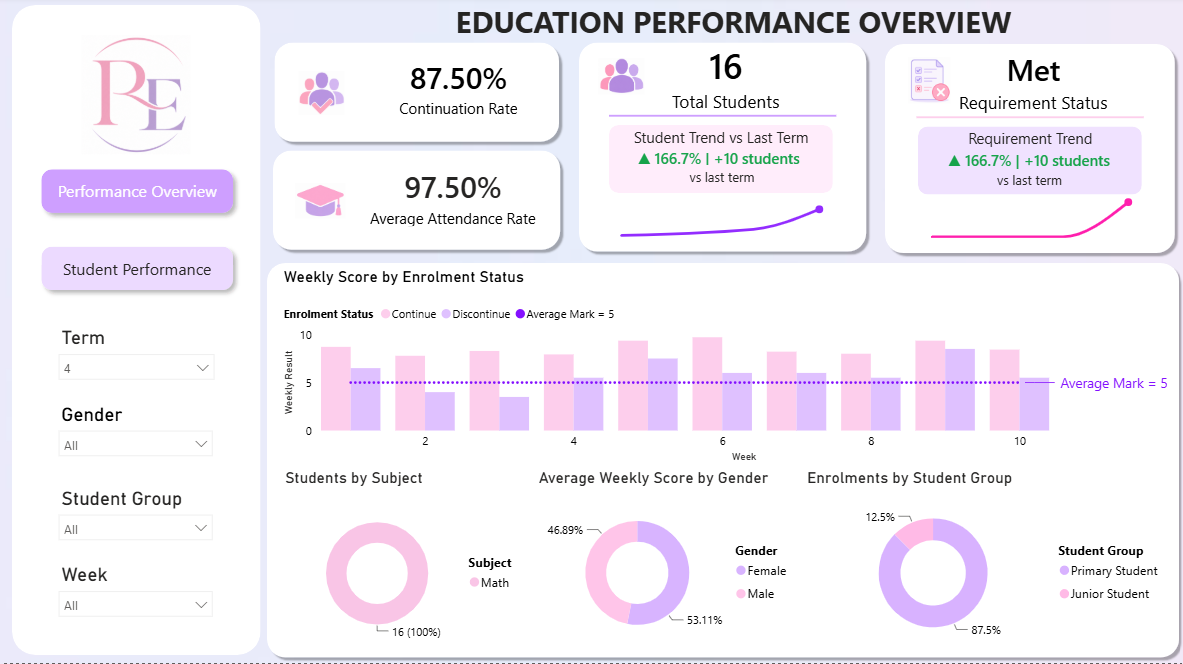

Layout of this report page (visuals, bound fields, positions):
{"tool":"powerbi","page":{"name":"Performance Overview","canvas":[1280,720],"ordinal":0},"visuals":[{"type":"textbox","box":[68.9,43.3,101.7,33.3],"z":0},{"type":"shape","box":[658,138.3,241.7,73.3],"z":0,"group":"g6"},{"type":"shape","box":[991,140,241.7,73.3],"z":0,"group":"g7"},{"type":"shape","box":[288,161.1,322.9,120],"z":0,"group":"g4"},{"type":"shape","box":[13.3,10,268.3,701.7],"z":1000},{"type":"shape","box":[289.4,44,320,120],"z":1000,"group":"g4"},{"type":"shape","box":[618.3,43.4,322.9,238.6],"z":2000,"group":"g3"},{"type":"group","id":"g1","title":"Group 1","box":[654.7,135,248.9,63.9],"z":2000,"group":"g6"},{"type":"group","id":"g2","title":"Group 1","box":[987.7,136.7,248.9,38.9],"z":2000,"group":"g7"},{"type":"pageNavigator","box":[35.6,178.1,225,148.3],"z":2000},{"type":"shape","box":[948.3,45,325.7,238.6],"z":3000,"group":"g9"},{"type":"shape","box":[282.5,281.2,997.5,438.8],"z":4000},{"type":"textbox","box":[302.2,0,977.8,60],"z":5000},{"type":"image","box":[34,42.1,225.7,128.6],"z":6000},{"type":"cardVisual","fields":{"Data":["Enrolment.Continuation Rate"]},"box":[329.4,48.3,252.9,115.7],"z":7000,"group":"g4"},{"type":"lineClusteredColumnComboChart","title":"Weekly Score by Enrolment Status","fields":{"Category":["Result.week_number"],"Series":["Enrolment.enrolment_status"],"Y":["Avg(Result.weekly_result)"],"Y2":["Result.Average Mark"]},"box":[301.2,293.8,963.8,215],"z":7000},{"type":"donutChart","title":"Students by Subject","fields":{"Y":["Enrolment.Total Students"],"Category":["Enrolment.subject"]},"box":[302,510,274,196],"z":8000},{"type":"cardVisual","fields":{"Data":["Result.Requirement Status"]},"box":[996.6,30,236.7,123.3],"z":9000,"group":"g9"},{"type":"cardVisual","fields":{"Data":["Enrolment.Total Students"]},"box":[698.1,31.7,171,114],"z":9000,"group":"g3"},{"type":"shape","box":[656.4,119.5,245.6,18.9],"z":10000,"group":"g3"},{"type":"donutChart","fields":{"Y":["Result.Average Weekly Score"],"Category":["Enrolment.gender"]},"box":[576,510,288.3,195],"z":10000},{"type":"group","id":"g3","title":"Group 5","box":[618.3,31.7,322.9,250.2],"z":11000},{"type":"lineChart","fields":{"Category":["Enrolment.term"],"Y":["Enrolment.Total Students"]},"box":[655.6,206.4,243.3,63.3],"z":11000,"group":"g3"},{"type":"group","id":"g4","title":"Group 7","box":[288,44,322,236],"z":12000},{"type":"group","id":"g5","title":"Group 3","box":[310.6,81.2,292.9,189.1],"z":12000,"group":"g4"},{"type":"image","box":[314,81.2,65.7,47.1],"z":12000,"group":"g5"},{"type":"group","id":"g6","title":"Group 2","box":[654.7,135,248.3,76.7],"z":13000,"group":"g3"},{"type":"donutChart","title":"Enrolments by Student Group","fields":{"Y":["Enrolment.Total Enrolments"],"Category":["Enrolment.Student Group"]},"box":[866,510,398.3,195],"z":13000},{"type":"cardVisual","fields":{"Data":["Enrolment.Average Attendance Rate"]},"box":[310.6,168.9,292.9,101.4],"z":13500,"group":"g5"},{"type":"image","box":[319,196.6,54.3,50],"z":14000,"group":"g4"},{"type":"slicer","fields":{"Values":["Enrolment.gender"]},"box":[54,434,186.2,64.8],"z":14000},{"type":"group","id":"g7","title":"Group 2","box":[987.7,136.7,248.9,76.7],"z":15000,"group":"g8"},{"type":"cardVisual","fields":{"Data":["Enrolment.Student Trend vs Last Term"]},"box":[656.4,146.7,240,52.2],"z":15000,"group":"g1"},{"type":"textbox","box":[728.1,178.4,101.7,33.3],"z":15000,"group":"g3"},{"type":"slicer","fields":{"Values":["Enrolment.Student Group"]},"box":[54,524,186,70],"z":15000},{"type":"slicer","fields":{"Values":["Result.week_number"]},"box":[53.4,607.2,186.2,74.5],"z":16000},{"type":"image","box":[645.7,61.4,50,50],"z":17000,"group":"g3"},{"type":"shape","box":[988.9,121.1,245.6,18.9],"z":17000,"group":"g9"},{"type":"textbox","box":[654.7,135,248.9,38.9],"z":17000,"group":"g1"},{"type":"textbox","box":[987.7,136.7,248.9,38.9],"z":17000,"group":"g2"},{"type":"textbox","box":[1061,181.7,101.7,33.3],"z":17000,"group":"g8"},{"type":"cardVisual","fields":{"Data":["Enrolment.Requirement Status Trend"]},"box":[994.4,145,233.3,61.7],"z":18000,"group":"g8"},{"type":"slicer","fields":{"Values":["Enrolment.term"]},"box":[54,352,188,72],"z":18000},{"type":"lineChart","fields":{"Category":["Enrolment.term"],"Y":["Enrolment.Met Students"]},"box":[991.1,201.7,241.7,63.3],"z":19000,"group":"g9"},{"type":"image","box":[976.9,65,50,50],"z":20000,"group":"g9"},{"type":"group","id":"g8","title":"Group 6","box":[987.7,136.7,247.8,77.8],"z":21000,"group":"g9"},{"type":"group","id":"g9","title":"Group 4","box":[948.3,30,325.7,253.6],"z":21001}]}

Visuals, with their boxes in screenshot pixels (x1, y1, x2, y2), scaled from the page's 1280x720 canvas onto the 1183x664 screenshot:
textbox: [left=64, top=40, right=158, bottom=71]
shape: [left=608, top=128, right=832, bottom=195]
shape: [left=916, top=129, right=1139, bottom=197]
shape: [left=266, top=149, right=565, bottom=259]
shape: [left=12, top=9, right=260, bottom=656]
shape: [left=267, top=41, right=563, bottom=151]
shape: [left=571, top=40, right=870, bottom=260]
"Group 1" group: [left=605, top=125, right=835, bottom=183]
"Group 1" group: [left=913, top=126, right=1143, bottom=162]
pageNavigator: [left=33, top=164, right=241, bottom=301]
shape: [left=876, top=42, right=1177, bottom=262]
shape: [left=261, top=259, right=1182, bottom=663]
textbox: [left=279, top=0, right=1182, bottom=55]
image: [left=31, top=39, right=240, bottom=157]
cardVisual - Enrolment.Continuation Rate: [left=304, top=45, right=538, bottom=151]
"Weekly Score by Enrolment Status" lineClusteredColumnComboChart: [left=278, top=271, right=1169, bottom=469]
"Students by Subject" donutChart: [left=279, top=470, right=532, bottom=651]
cardVisual - Result.Requirement Status: [left=921, top=28, right=1140, bottom=141]
cardVisual - Enrolment.Total Students: [left=645, top=29, right=803, bottom=134]
shape: [left=607, top=110, right=834, bottom=128]
donutChart - Result.Average Weekly Score x Enrolment.gender: [left=532, top=470, right=799, bottom=650]
"Group 5" group: [left=571, top=29, right=870, bottom=260]
lineChart - Enrolment.term x Enrolment.Total Students: [left=606, top=190, right=831, bottom=249]
"Group 7" group: [left=266, top=41, right=564, bottom=258]
"Group 3" group: [left=287, top=75, right=558, bottom=249]
image: [left=290, top=75, right=351, bottom=118]
"Group 2" group: [left=605, top=125, right=835, bottom=195]
"Enrolments by Student Group" donutChart: [left=800, top=470, right=1168, bottom=650]
cardVisual - Enrolment.Average Attendance Rate: [left=287, top=156, right=558, bottom=249]
image: [left=295, top=181, right=345, bottom=227]
slicer - Enrolment.gender: [left=50, top=400, right=222, bottom=460]
"Group 2" group: [left=913, top=126, right=1143, bottom=197]
cardVisual - Enrolment.Student Trend vs Last Term: [left=607, top=135, right=828, bottom=183]
textbox: [left=673, top=165, right=767, bottom=195]
slicer - Enrolment.Student Group: [left=50, top=483, right=222, bottom=548]
slicer - Result.week_number: [left=49, top=560, right=221, bottom=629]
image: [left=597, top=57, right=643, bottom=103]
shape: [left=914, top=112, right=1141, bottom=129]
textbox: [left=605, top=125, right=835, bottom=160]
textbox: [left=913, top=126, right=1143, bottom=162]
textbox: [left=981, top=168, right=1075, bottom=198]
cardVisual - Enrolment.Requirement Status Trend: [left=919, top=134, right=1135, bottom=191]
slicer - Enrolment.term: [left=50, top=325, right=224, bottom=391]
lineChart - Enrolment.term x Enrolment.Met Students: [left=916, top=186, right=1139, bottom=244]
image: [left=903, top=60, right=949, bottom=106]
"Group 6" group: [left=913, top=126, right=1142, bottom=198]
"Group 4" group: [left=876, top=28, right=1177, bottom=262]
